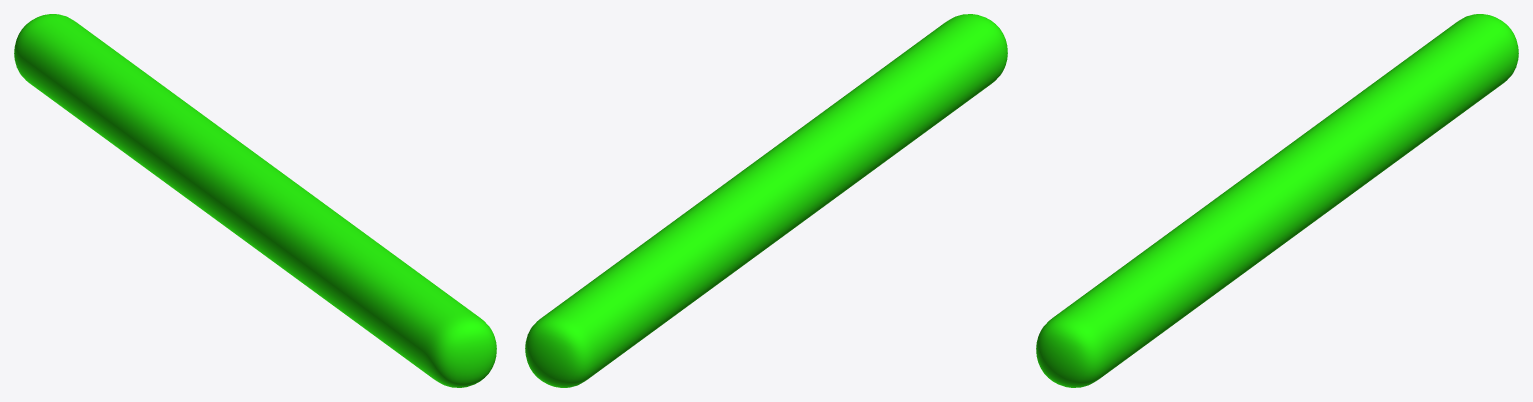
Rendered from 야광봉.fbx.
The picture shows the model from 3 angles, left to right: view 1: azimuth 30°, elevation 25°; view 2: azimuth 150°, elevation 25°; view 3: azimuth 330°, elevation 25°; orthographic projection.
Parts seen in each view (by area): view 1: Cube; view 2: Cube; view 3: Cube.
Boxes of the visible parts, bbox=[...] form: Cube: bbox=[14, 14, 496, 387]; Cube: bbox=[525, 14, 1007, 387]; Cube: bbox=[1036, 14, 1518, 387].
Size of the model in its own units: 25.41 by 25.41 by 296.
